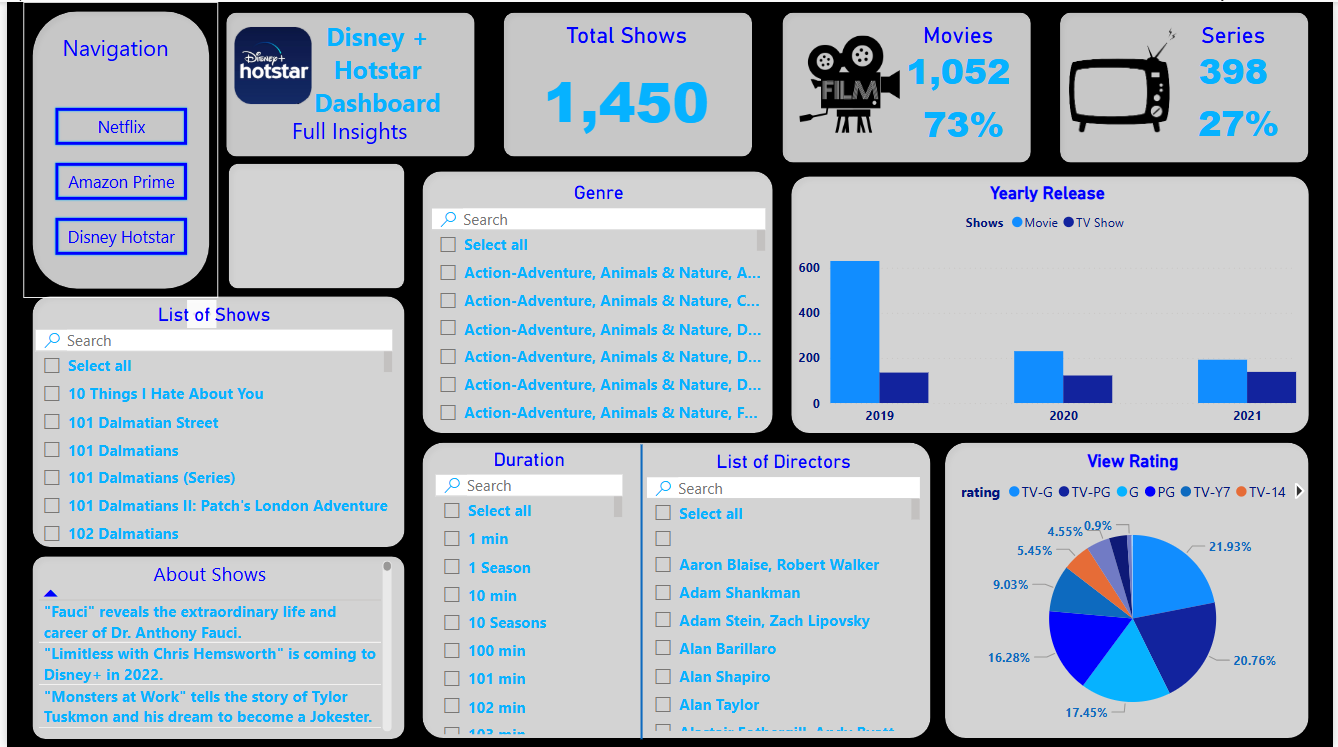

This screenshot's page, from the dashboard's own definition file:
{"tool":"powerbi","page":{"name":"Disney Hotstar","canvas":[1280,720],"ordinal":2},"visuals":[{"type":"shape","box":[202.8,1.2,257.6,156.9],"z":0},{"type":"shape","box":[15.2,0,188.5,285.7],"z":1000},{"type":"shape","box":[470.9,1.2,257.6,156.9],"z":2000},{"type":"shape","box":[740.1,1.2,257.6,162.7],"z":3000},{"type":"shape","box":[1007.1,1.2,257.6,162.7],"z":4000},{"type":"textbox","box":[34,23.6,141.7,41],"z":5000},{"type":"textbox","box":[269.5,11.7,176.8,112.4],"z":6000},{"type":"textbox","box":[214.5,104.2,231.8,39.8],"z":7000},{"type":"card","title":"Total Shows","fields":{"Values":["All Measures.Shows Hotstar"]},"box":[483.7,19.9,228.3,124.1],"z":8000},{"type":"card","title":"Movies","fields":{"Values":["All Measures.Movies Hot"]},"box":[852.5,19.9,130,71.4],"z":9000},{"type":"card","title":"Male","fields":{"Values":["All Measures.% movies hot"]},"box":[868.9,91.3,108.9,52.7],"z":10000},{"type":"card","title":"Series","fields":{"Values":["All Measures.Series Hot"]},"box":[1118.2,19.6,130,71.4],"z":11000},{"type":"card","title":"Male","fields":{"Values":["All Measures.% series hot"]},"box":[1134.6,91,108.9,52.7],"z":12000},{"type":"image","box":[757.7,28.1,111.2,103],"z":13000},{"type":"image","box":[1019.9,19.9,115.9,111.2],"z":14000},{"type":"image","box":[214.5,19.9,84.3,84.3],"z":15000},{"type":"actionButton","box":[44.5,99.7,131.1,39.8],"z":16000},{"type":"actionButton","box":[44.5,153.6,131.1,39.8],"z":17000},{"type":"actionButton","box":[44.5,206.3,131.1,39.8],"z":18000},{"type":"shape","box":[204.9,147.5,187.3,138.1],"z":19000},{"type":"shape","box":[748.1,159.2,517.5,265.8],"z":20000},{"type":"clusteredColumnChart","title":"Yearly Release","fields":{"Category":["disney_plus_titles.year_added"],"Series":["disney_plus_titles.type"],"Y":["CountNonNull(disney_plus_titles.title)"]},"box":[758.6,173.3,490.5,243.5],"z":21000},{"type":"shape","box":[896.8,416.8,368.8,303.2],"z":22000},{"type":"pieChart","title":"View Rating","fields":{"Y":["CountNonNull(disney_plus_titles.title)"],"Category":["disney_plus_titles.rating"]},"box":[915.5,433.2,341.9,275.1],"z":23000},{"type":"shape","box":[15.2,275.1,377,259.9],"z":24000},{"type":"shape","box":[15.2,525.7,377,194.3],"z":25000},{"type":"shape","box":[392.2,154.5,355.9,270.4],"z":26000},{"type":"shape","box":[392.2,416.8,508.1,303.2],"z":27000},{"type":"slicer","title":"List of Shows","fields":{"Values":["disney_plus_titles.title"]},"box":[23.4,290.3,353.6,235.3],"z":28000},{"type":"slicer","title":"Duration","fields":{"Values":["disney_plus_titles.duration"]},"box":[408.6,430.8,189.7,281],"z":29000},{"type":"tableEx","fields":{"Values":["disney_plus_titles.description"]},"box":[24.6,535,352.4,174.4],"z":30000},{"type":"shape","box":[598.2,427.3,28.1,284.5],"z":31000},{"type":"slicer","title":"Genre","fields":{"Values":["disney_plus_titles.listed_in"]},"box":[405.1,173.3,331.3,243.5],"z":32000},{"type":"slicer","title":"List of Directors","fields":{"Values":["disney_plus_titles.director"]},"box":[612.3,433.2,272.8,275.1],"z":33000}]}

Visuals, with their boxes in screenshot pixels (x1, y1, x2, y2), scaled from the page's 1280x720 canvas onto the 1338x747 screenshot:
shape: [x1=212, y1=1, x2=481, y2=164]
shape: [x1=16, y1=0, x2=213, y2=296]
shape: [x1=492, y1=1, x2=762, y2=164]
shape: [x1=774, y1=1, x2=1043, y2=170]
shape: [x1=1053, y1=1, x2=1322, y2=170]
textbox: [x1=36, y1=24, x2=184, y2=67]
textbox: [x1=282, y1=12, x2=467, y2=129]
textbox: [x1=224, y1=108, x2=467, y2=149]
"Total Shows" card: [x1=506, y1=21, x2=744, y2=149]
"Movies" card: [x1=891, y1=21, x2=1027, y2=95]
"Male" card: [x1=908, y1=95, x2=1022, y2=149]
"Series" card: [x1=1169, y1=20, x2=1305, y2=94]
"Male" card: [x1=1186, y1=94, x2=1300, y2=149]
image: [x1=792, y1=29, x2=908, y2=136]
image: [x1=1066, y1=21, x2=1187, y2=136]
image: [x1=224, y1=21, x2=312, y2=108]
actionButton: [x1=47, y1=103, x2=184, y2=145]
actionButton: [x1=47, y1=159, x2=184, y2=201]
actionButton: [x1=47, y1=214, x2=184, y2=255]
shape: [x1=214, y1=153, x2=410, y2=296]
shape: [x1=782, y1=165, x2=1323, y2=441]
"Yearly Release" clusteredColumnChart: [x1=793, y1=180, x2=1306, y2=432]
shape: [x1=937, y1=432, x2=1323, y2=746]
"View Rating" pieChart: [x1=957, y1=449, x2=1314, y2=735]
shape: [x1=16, y1=285, x2=410, y2=555]
shape: [x1=16, y1=545, x2=410, y2=746]
shape: [x1=410, y1=160, x2=782, y2=441]
shape: [x1=410, y1=432, x2=941, y2=746]
"List of Shows" slicer: [x1=24, y1=301, x2=394, y2=545]
"Duration" slicer: [x1=427, y1=447, x2=625, y2=738]
tableEx - disney_plus_titles.description: [x1=26, y1=555, x2=394, y2=736]
shape: [x1=625, y1=443, x2=655, y2=738]
"Genre" slicer: [x1=423, y1=180, x2=770, y2=432]
"List of Directors" slicer: [x1=640, y1=449, x2=925, y2=735]
